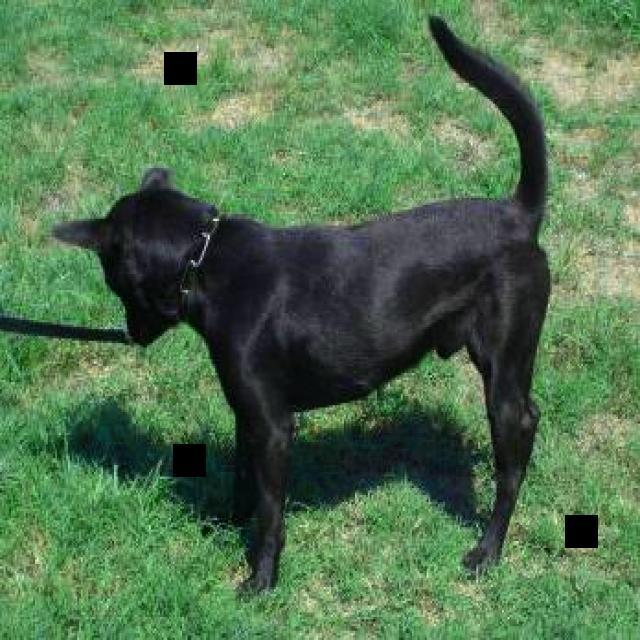adult_dog: (49, 11, 556, 608)
